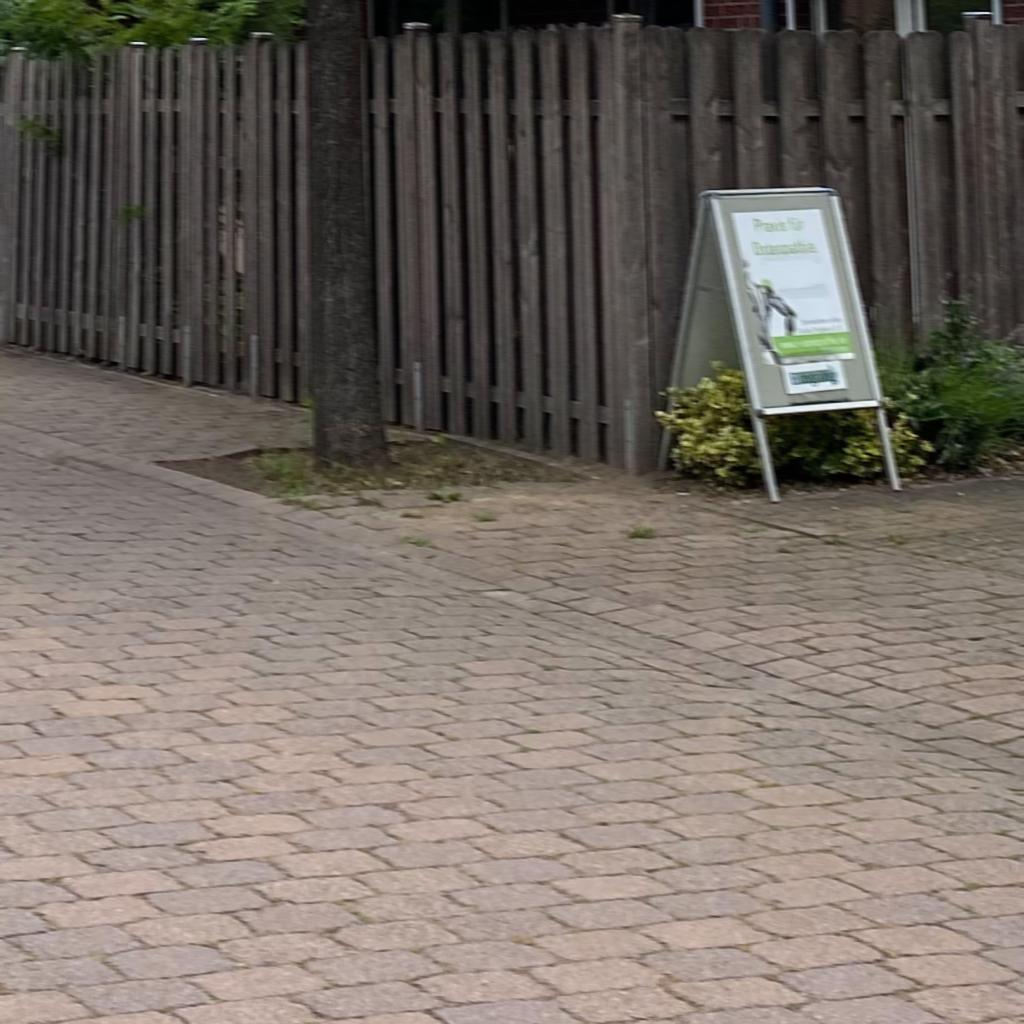tree: (1, 1, 393, 475)
